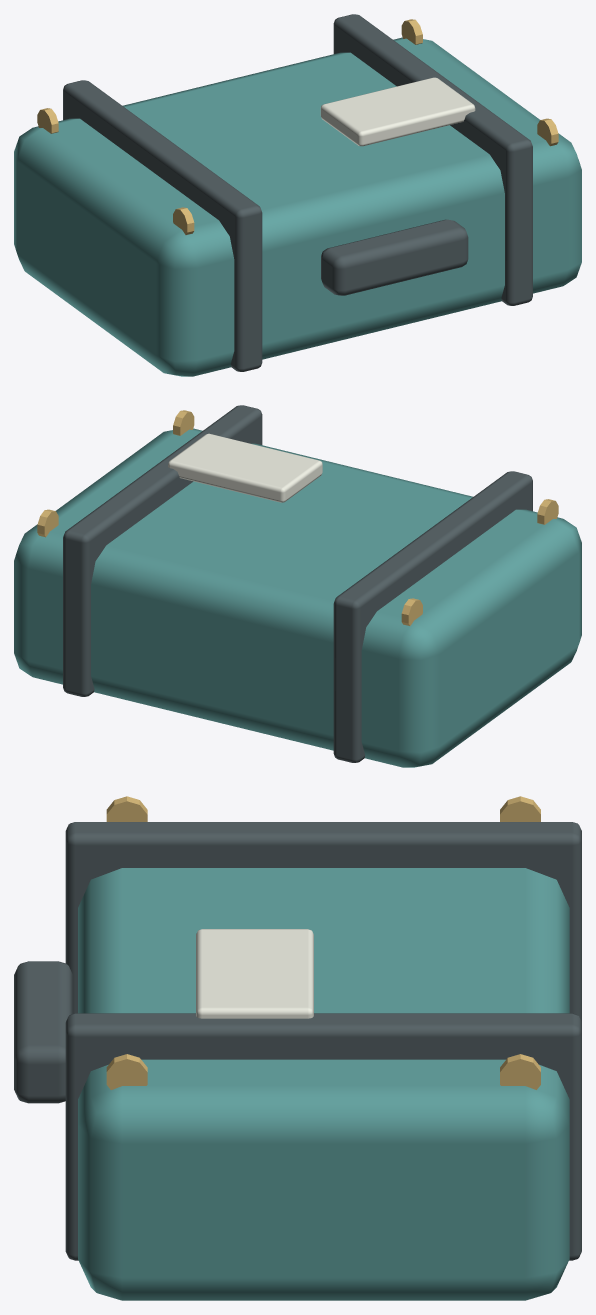
File: castaway-island-escape-washed-up-suitcase-dc1905fc__28055.glb
3 renders of one model, top to bottom at view 1: azimuth 30°, elevation 25°; view 2: azimuth 150°, elevation 25°; view 3: azimuth 270°, elevation 25°, orthographic. The views are drawn at different scales.
Visible parts, largest first — view 1: washed-up-suitcase-teal, washed-up-suitcase-iron, washed-up-suitcase-ivory, washed-up-suitcase-brass; view 2: washed-up-suitcase-teal, washed-up-suitcase-iron, washed-up-suitcase-ivory, washed-up-suitcase-brass; view 3: washed-up-suitcase-teal, washed-up-suitcase-iron, washed-up-suitcase-ivory, washed-up-suitcase-brass.
Boxes of the visible parts, x1=… form: washed-up-suitcase-teal: x1=14, y1=37, x2=581, y2=376; washed-up-suitcase-iron: x1=63, y1=14, x2=532, y2=371; washed-up-suitcase-ivory: x1=320, y1=77, x2=475, y2=146; washed-up-suitcase-brass: x1=37, y1=19, x2=558, y2=234; washed-up-suitcase-teal: x1=14, y1=428, x2=581, y2=767; washed-up-suitcase-iron: x1=63, y1=405, x2=532, y2=762; washed-up-suitcase-ivory: x1=168, y1=433, x2=322, y2=502; washed-up-suitcase-brass: x1=37, y1=410, x2=558, y2=625; washed-up-suitcase-teal: x1=78, y1=868, x2=569, y2=1300; washed-up-suitcase-iron: x1=14, y1=822, x2=581, y2=1260; washed-up-suitcase-ivory: x1=196, y1=929, x2=313, y2=1018; washed-up-suitcase-brass: x1=106, y1=796, x2=540, y2=1089.
Size of the model in its own units: 0.72 by 0.285 by 0.5775.
